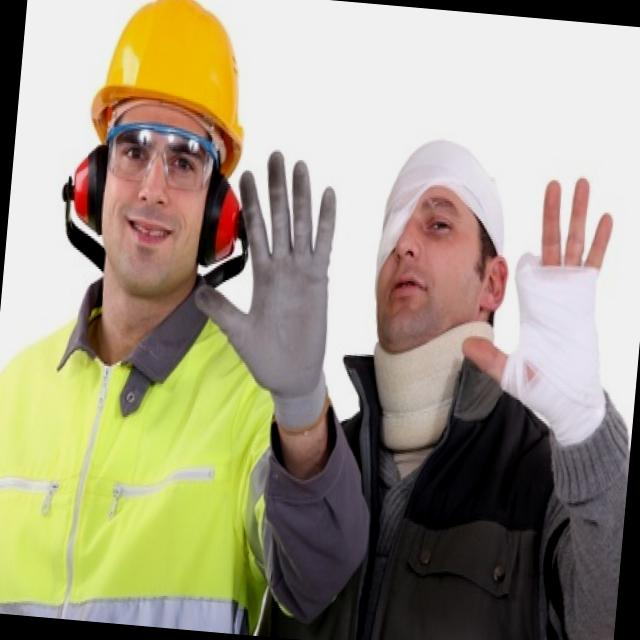goggles: (95, 116, 224, 198)
helmet: (85, 0, 259, 179)
vest: (0, 270, 300, 637)
